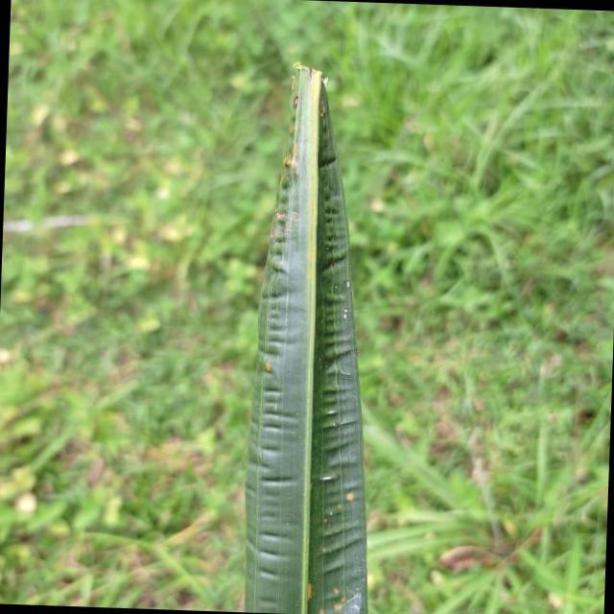Boron: (243, 49, 366, 614)
